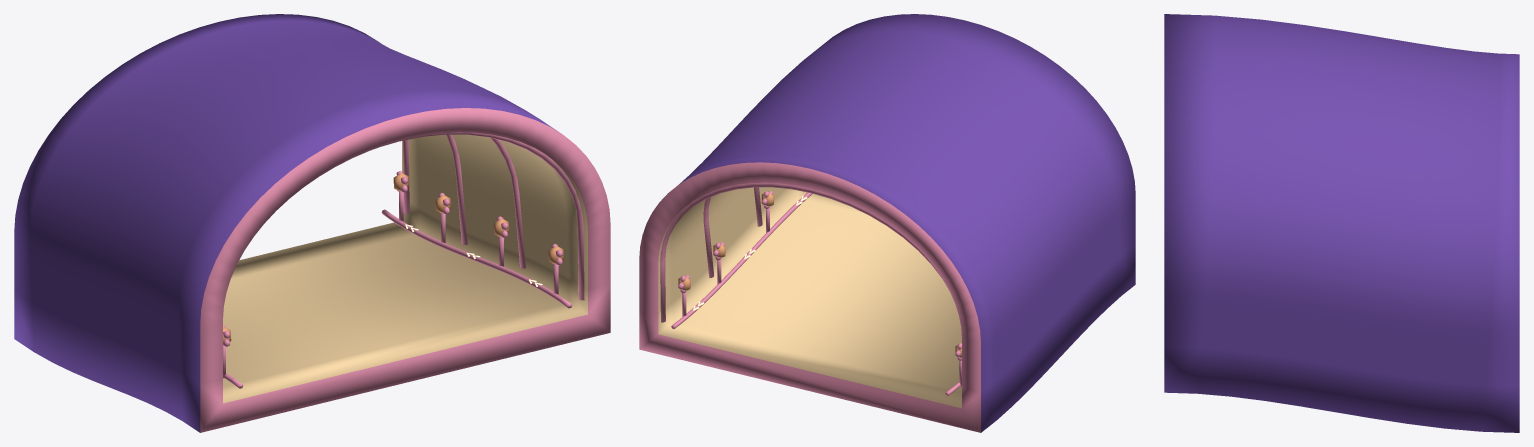
The model's file is grade_down_lod1.glb.
3 renders of one model, left to right at view 1: azimuth 30°, elevation 25°; view 2: azimuth 150°, elevation 25°; view 3: azimuth 270°, elevation 25°, orthographic. The views are drawn at different scales.
Parts seen in each view (by area): view 1: TunnelGeometry.001; view 2: TunnelGeometry.001; view 3: TunnelGeometry.001.
Part boxes in pixels (left/top/right/bottom): TunnelGeometry.001: left=14, top=14, right=610, bottom=432; TunnelGeometry.001: left=639, top=14, right=1135, bottom=432; TunnelGeometry.001: left=1164, top=14, right=1519, bottom=432.
Bounding box in the file's own units: 15.3 × 11.02 × 12.
Materials: 5 (2 with a texture image).
